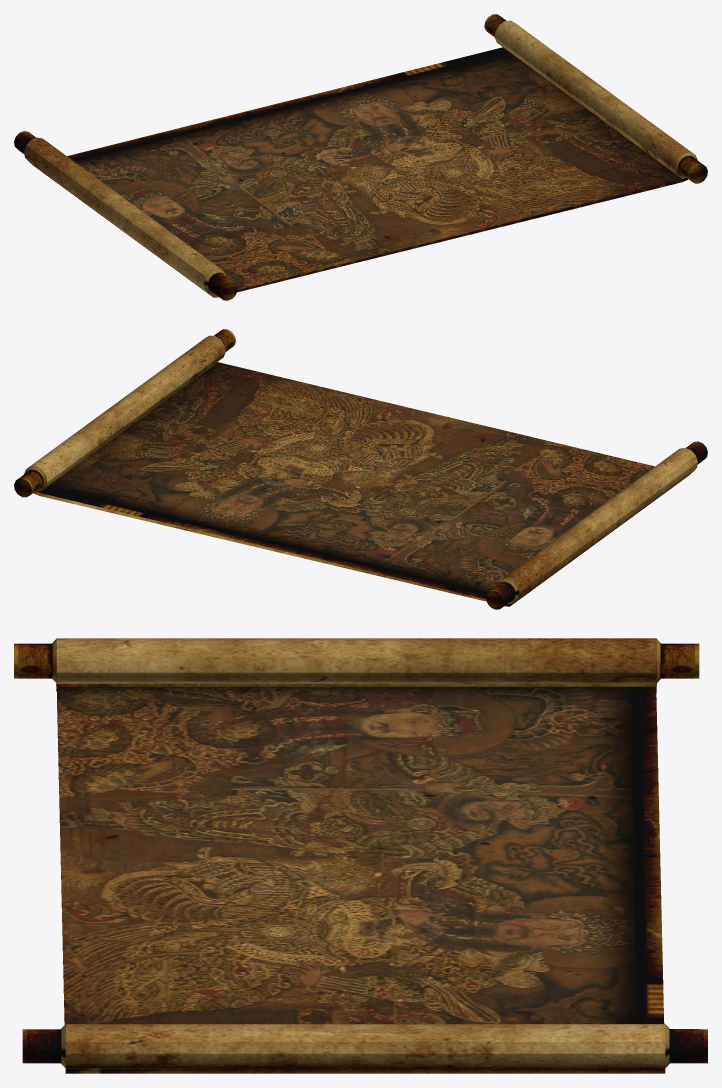
Rendered from ScrollPrint1.c.fbx.
3 renders of one model, top to bottom at view 1: azimuth 30°, elevation 25°; view 2: azimuth 150°, elevation 25°; view 3: azimuth 270°, elevation 25°, orthographic. The views are drawn at different scales.
Parts seen in each view (by area): view 1: Group 0; view 2: Group 0; view 3: Group 0.
Boxes of the visible parts, x1,y1,x2,y2 form: Group 0: (14,14,707,300); Group 0: (14,329,707,609); Group 0: (14,638,707,1073).
Size of the model in its own units: 80.43 by 4.51 by 58.43.
1 material, 1 textured.
